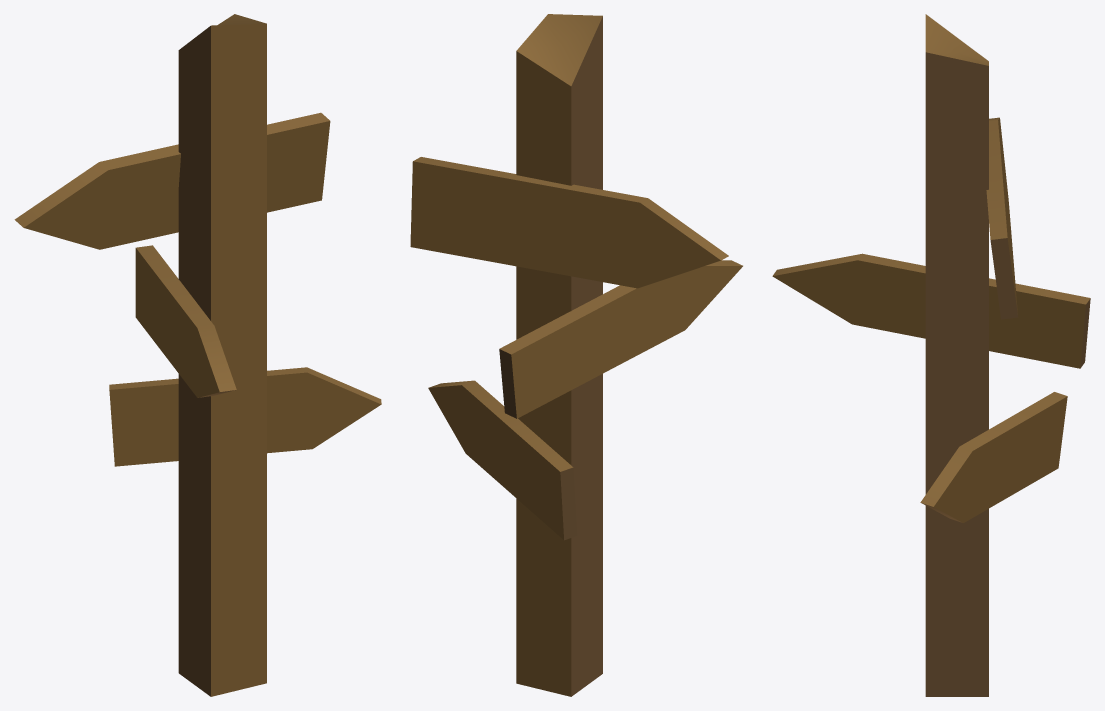
3 renders of one model, left to right at view 1: azimuth 30°, elevation 25°; view 2: azimuth 150°, elevation 25°; view 3: azimuth 270°, elevation 25°, orthographic. The views are drawn at different scales.
Visible parts, largest first — view 1: SF_Prop_SignPost_01; view 2: SF_Prop_SignPost_01; view 3: SF_Prop_SignPost_01.
Boxes of the visible parts, x1,y1,x2,y2 form: SF_Prop_SignPost_01: (14, 14, 381, 696); SF_Prop_SignPost_01: (410, 14, 742, 696); SF_Prop_SignPost_01: (772, 14, 1090, 696).
Size of the model in its own units: 0.016 by 0.0308 by 0.0136.
1 material, 1 textured.
